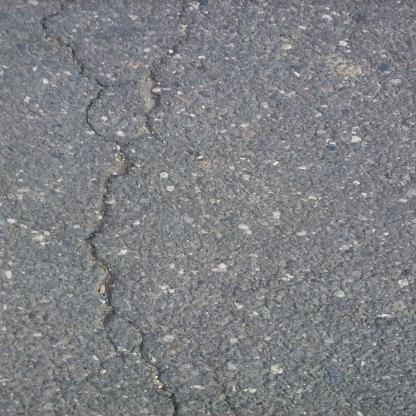Cracks: (38, 1, 189, 416)
